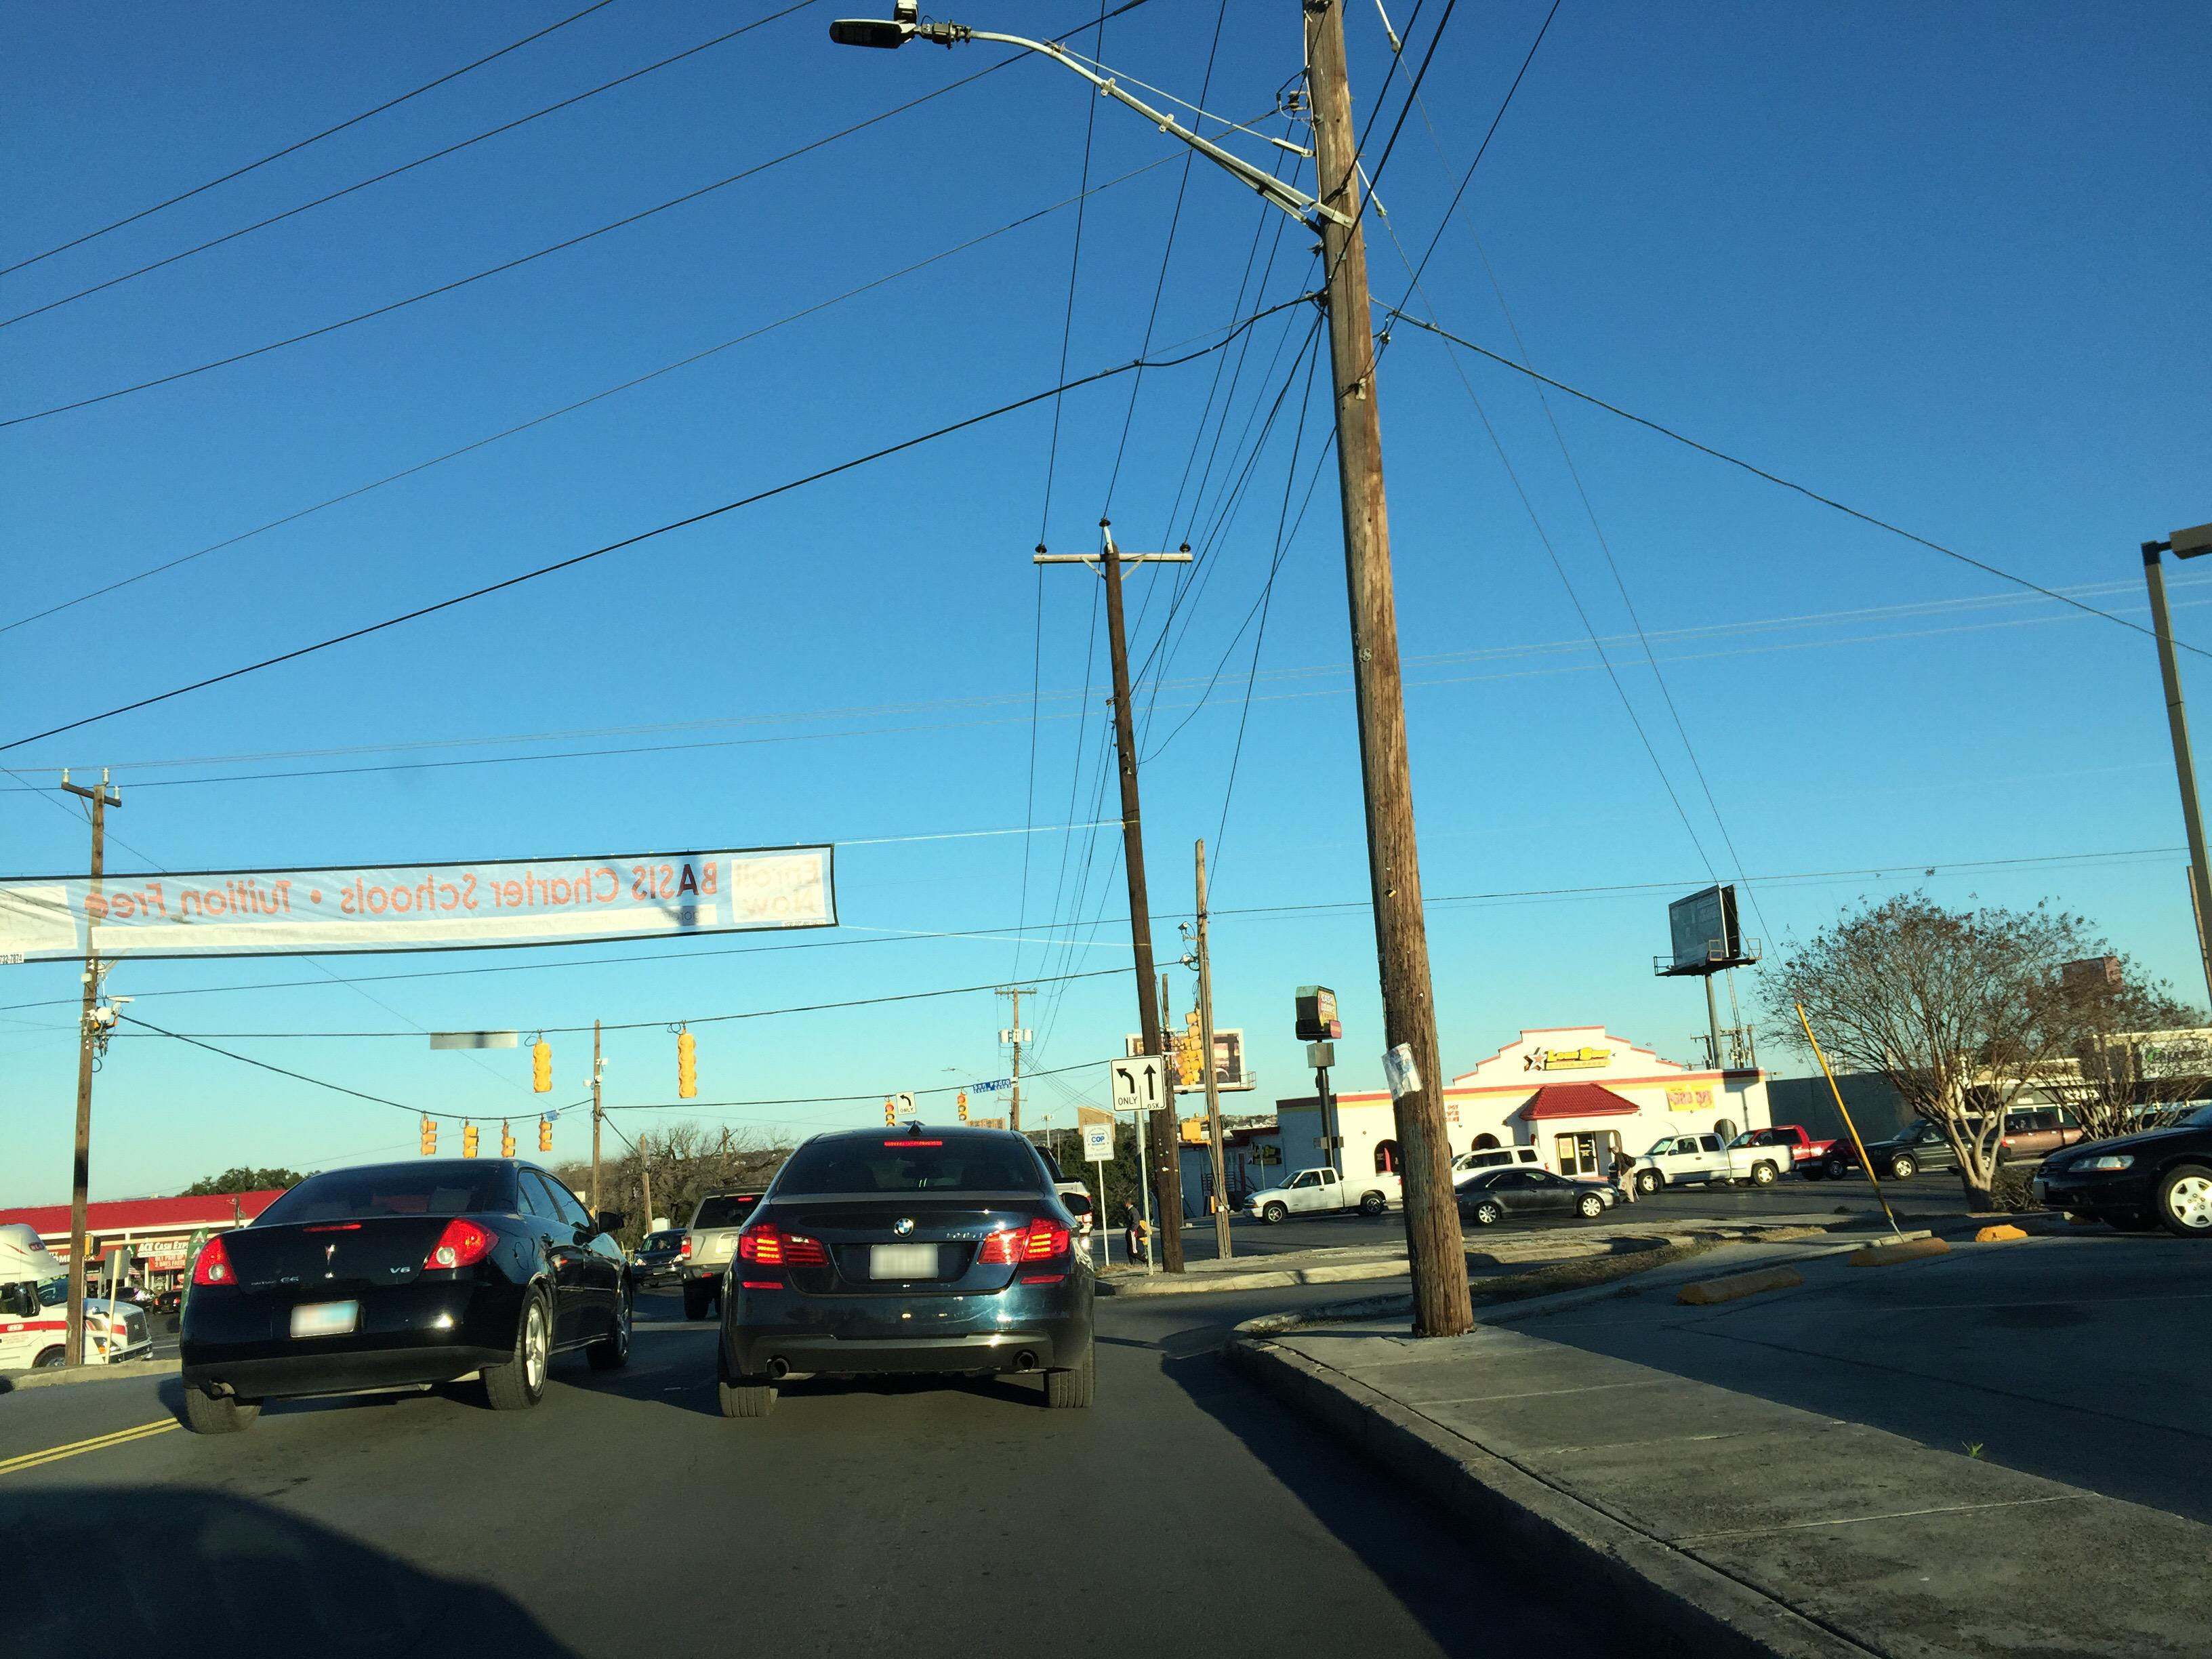vinyl banner: (2, 845, 874, 990)
